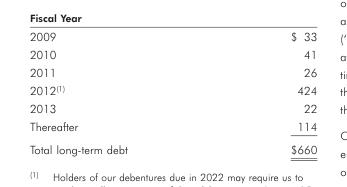table: (28, 29, 316, 155)
table column: (28, 29, 208, 155), (208, 29, 316, 155)
table row: (28, 116, 316, 137), (28, 45, 316, 63), (28, 80, 316, 98), (28, 98, 316, 116), (28, 137, 316, 155), (28, 63, 316, 80), (28, 29, 316, 45)
